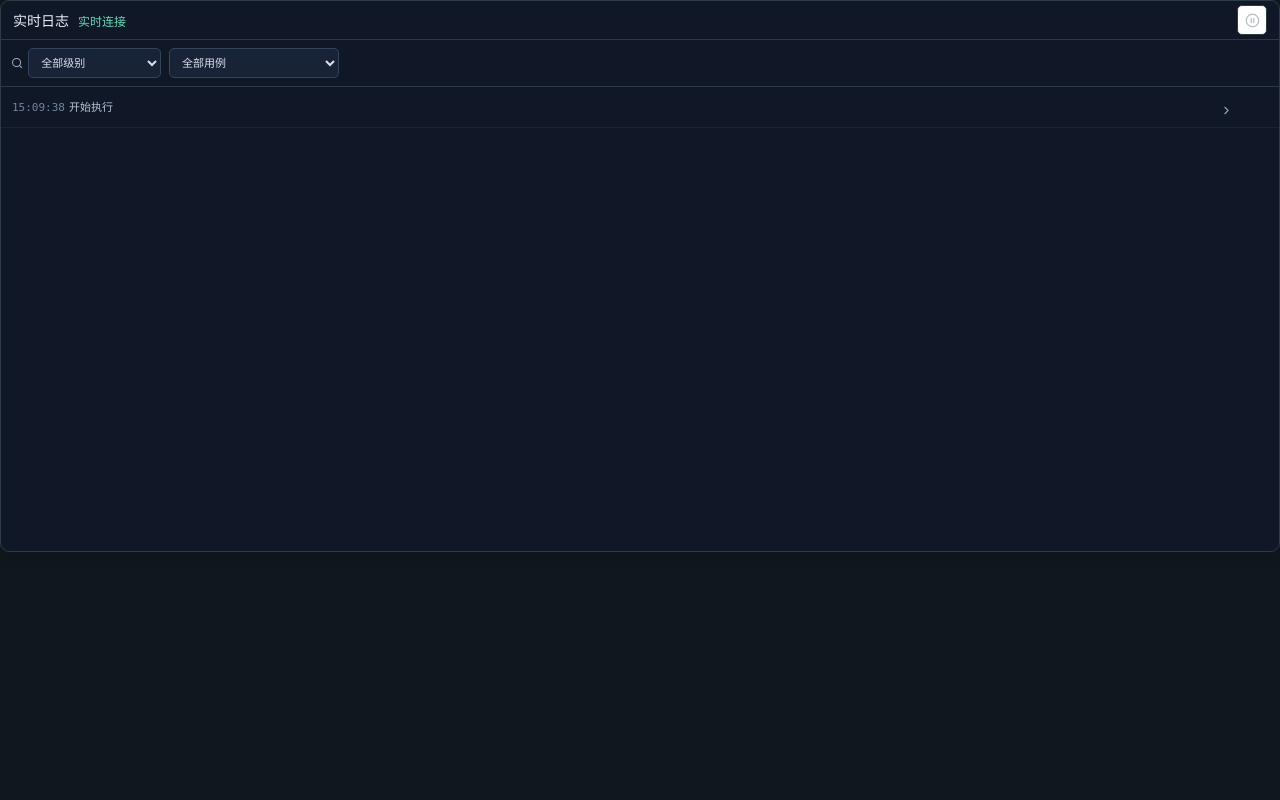
Scenario: ExecutionLog › reveals sanitized event evidence without replacing the log line
Click the button with test id "log-evidence-toggle": (1226, 110) [1215,99,1237,121]
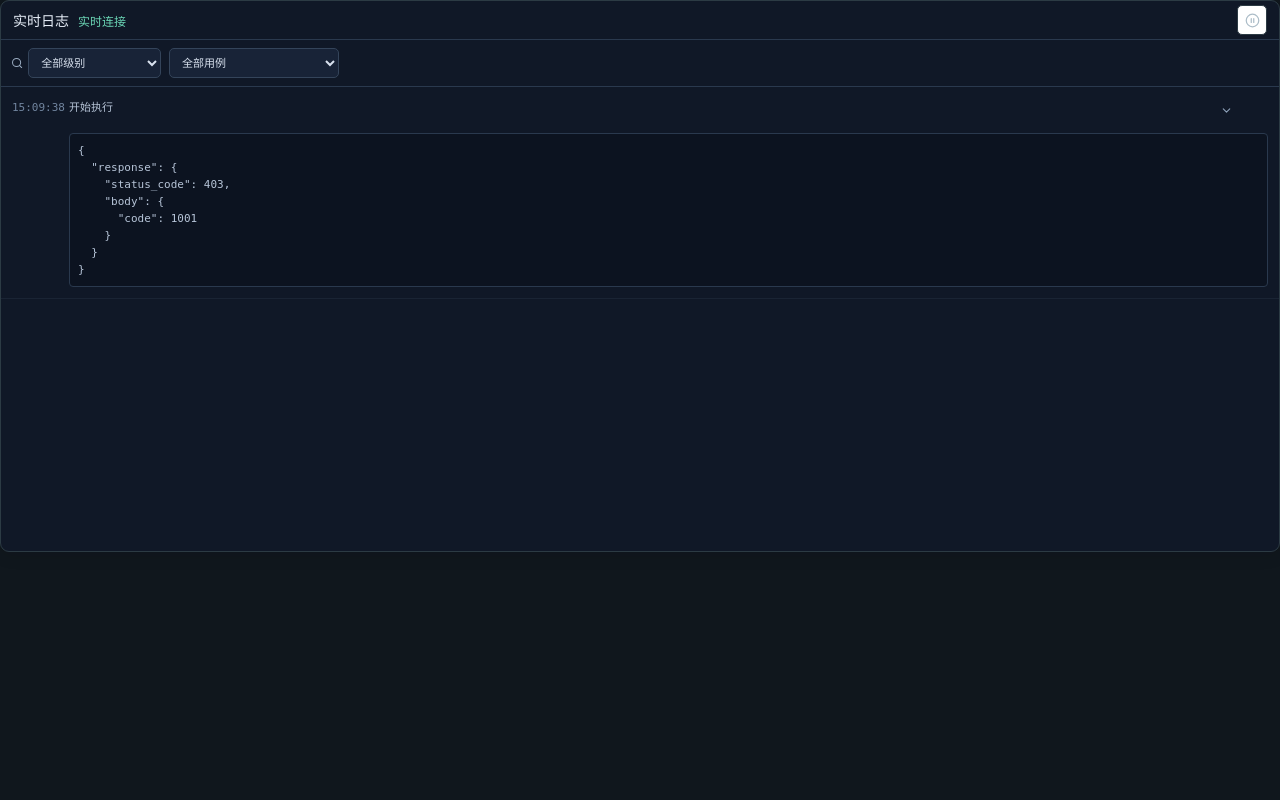
Now the text with test id "log-evidence" shows "status_code", box [78,144,230,276]
